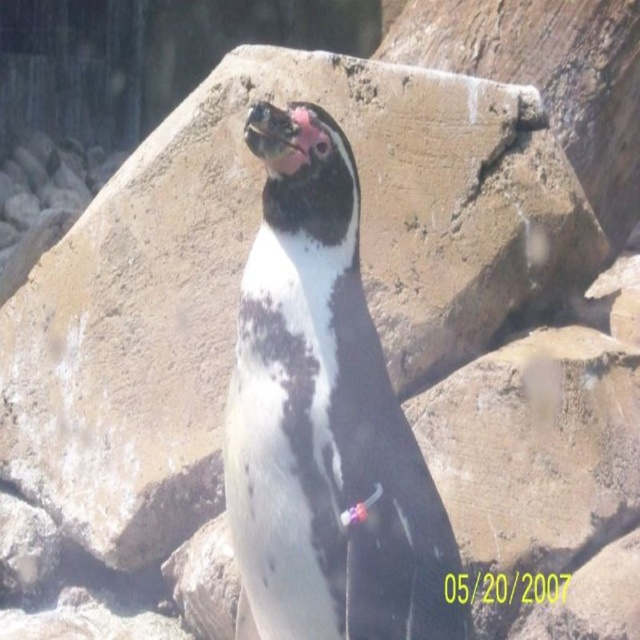Penguin: (225, 98, 465, 639)
